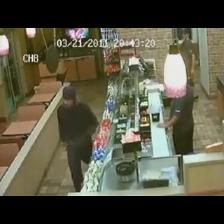person: (58, 86, 98, 191), (158, 85, 194, 155), (180, 28, 195, 87)
